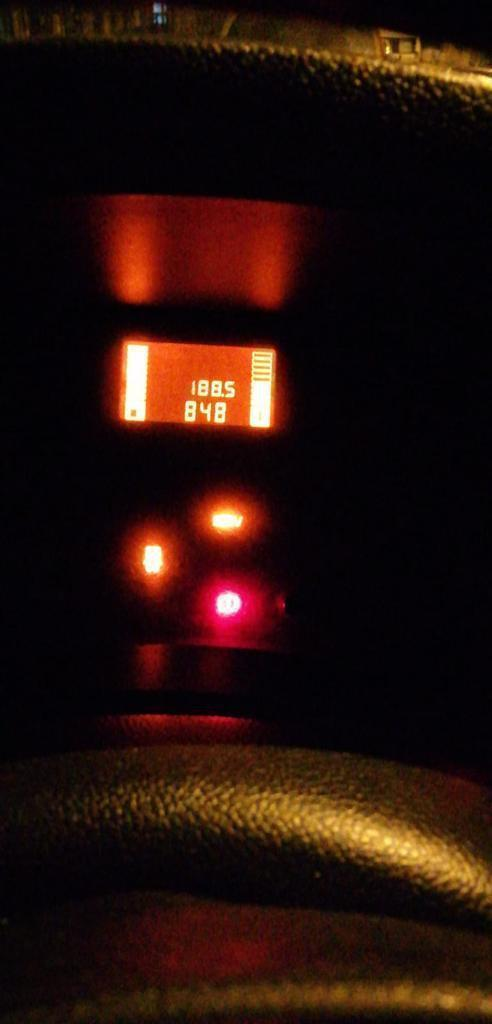,: (221, 393, 224, 397)
1: (188, 378, 196, 395)
4: (198, 400, 212, 422)
5: (224, 380, 236, 398)
8: (183, 399, 197, 422), (213, 401, 226, 423), (197, 379, 208, 397), (211, 379, 221, 397)
odometer: (114, 336, 279, 432)
